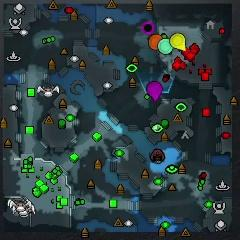p2: (158, 38, 173, 55)
p3: (147, 82, 163, 102)
p3Clone: (142, 22, 155, 34)
p4: (171, 33, 186, 52)
p5Clone: (149, 35, 162, 51)
